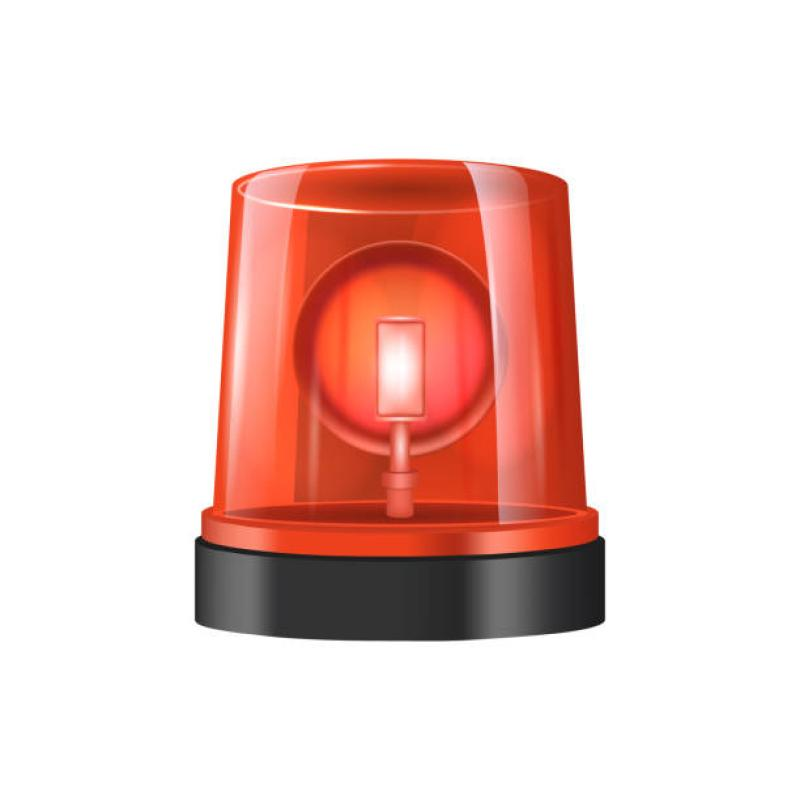AmbulanceSiren: (142, 99, 667, 705)
